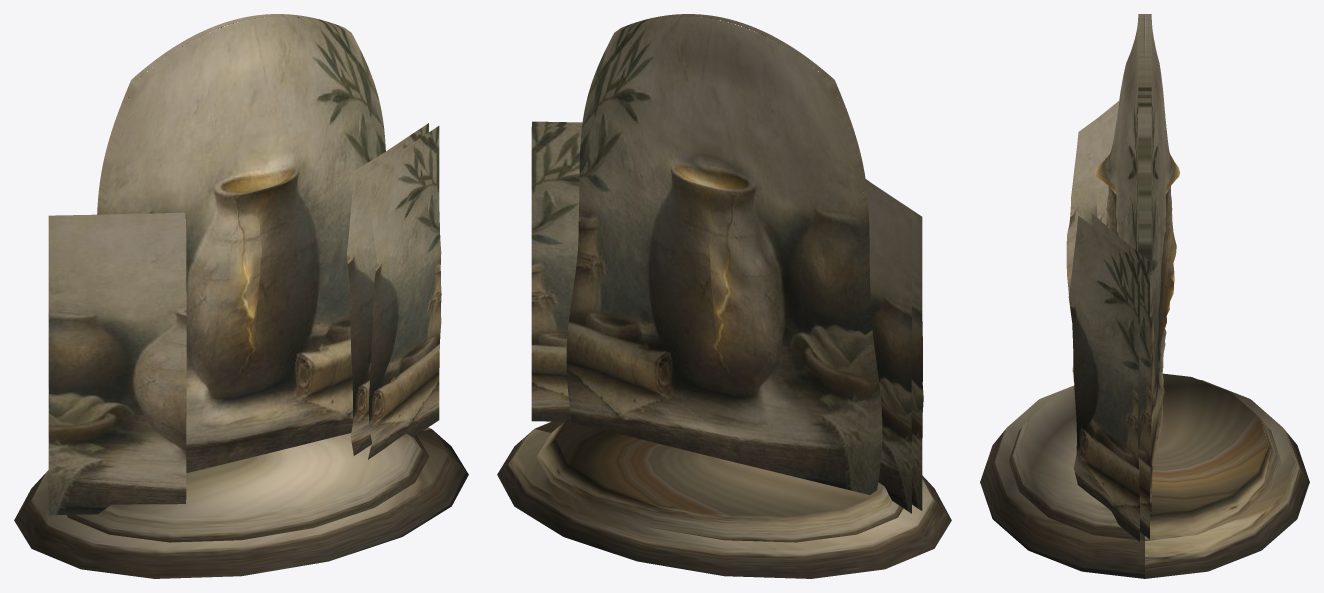
The model's file is treasure-in-clay-jars-29.glb.
3 views of the same model, side by side, from view 1: azimuth 30°, elevation 25°; view 2: azimuth 150°, elevation 25°; view 3: azimuth 270°, elevation 25° (orthographic). The views are drawn at different scales.
Parts seen in each view (by area): view 1: PaintingSculptureMonument; view 2: PaintingSculptureMonument; view 3: PaintingSculptureMonument.
Part boxes in pixels (<box>): PaintingSculptureMonument: <box>14,14,468,578</box>; PaintingSculptureMonument: <box>497,14,951,578</box>; PaintingSculptureMonument: <box>980,14,1309,578</box>.
Size of the model in its own units: 2.76 by 2.99 by 1.99.
Materials: 1 (1 with a texture image).
